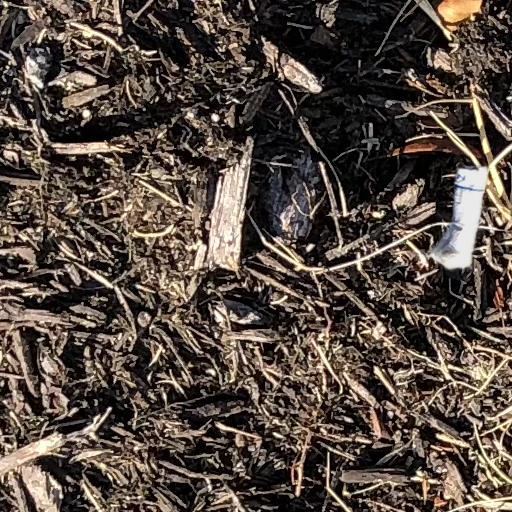smoke: (430, 167, 487, 269)
